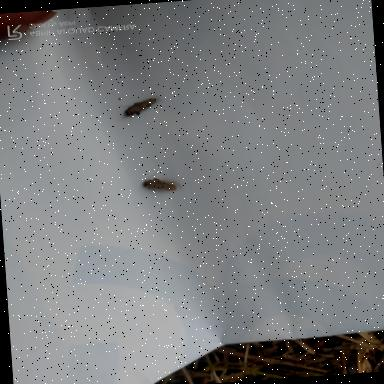pbw: (142, 172, 180, 194), (124, 98, 156, 118)
